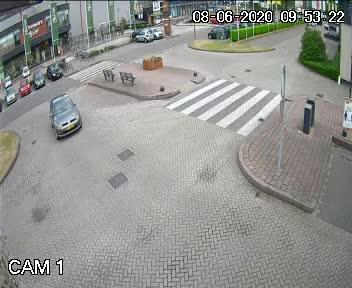car: (44, 87, 84, 140), (203, 24, 234, 42), (320, 21, 340, 43), (44, 60, 64, 81), (29, 71, 52, 88), (131, 26, 154, 43), (147, 26, 167, 42), (18, 80, 33, 96), (17, 65, 32, 77), (2, 74, 14, 88), (5, 89, 15, 102)
